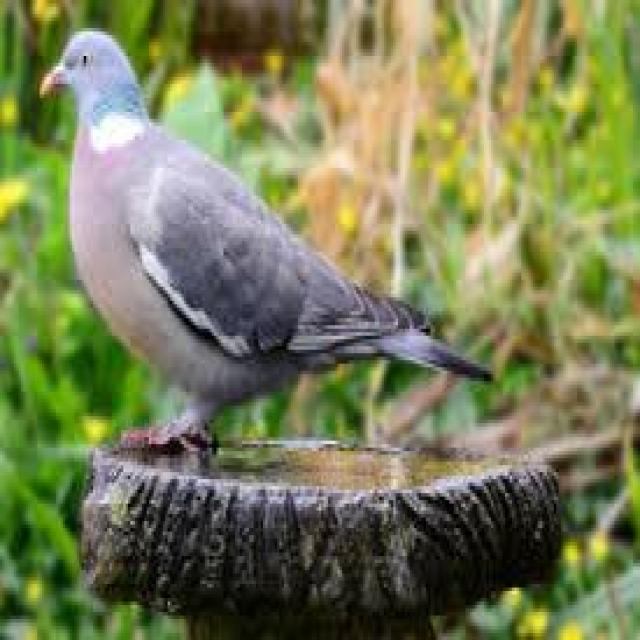pigeon: (26, 22, 512, 465)
